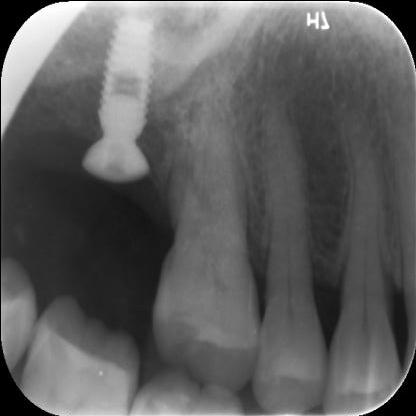Bicon: (92, 16, 158, 132)
